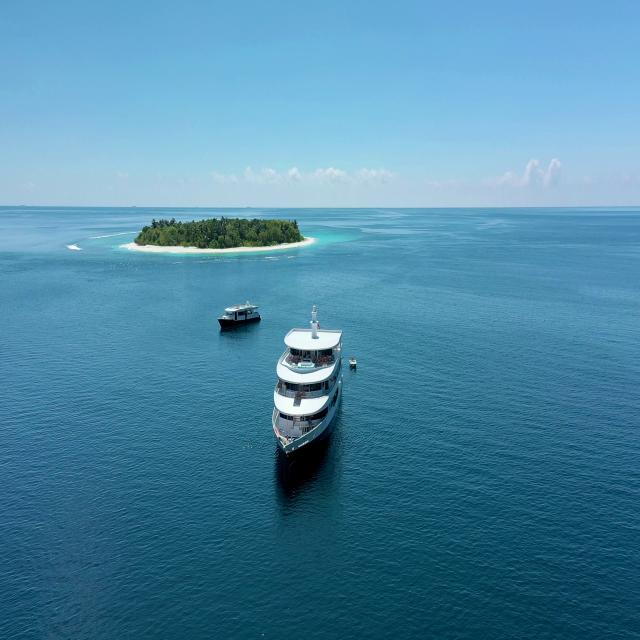ship: (273, 307, 344, 452), (219, 300, 261, 325)
